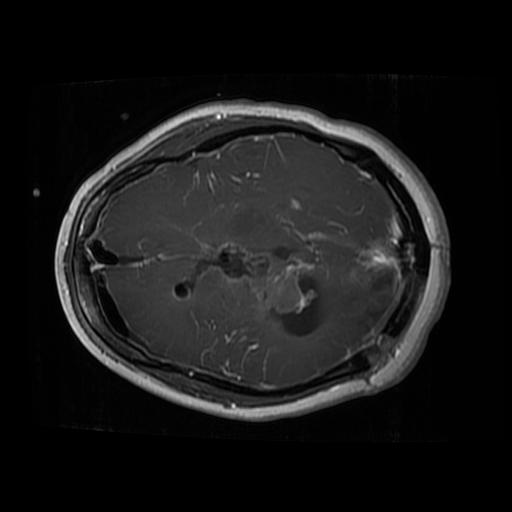glioma: (171, 234, 326, 340)
